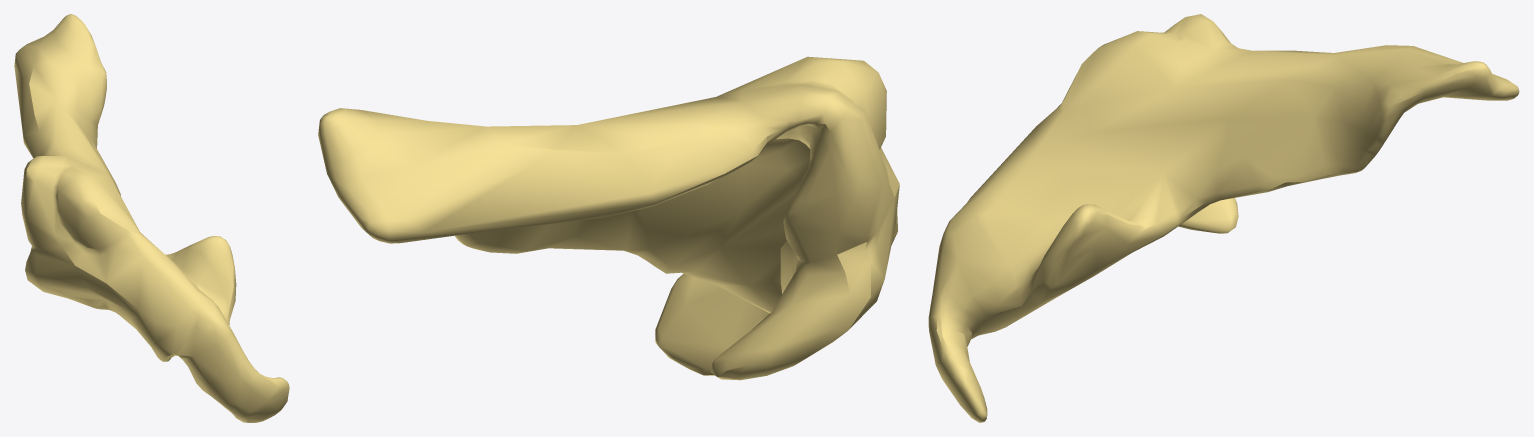
Rendered from fma72800_fj1838.glb.
3 renders of one model, left to right at view 1: azimuth 30°, elevation 25°; view 2: azimuth 150°, elevation 25°; view 3: azimuth 270°, elevation 25°, orthographic. The views are drawn at different scales.
Parts seen in each view (by area): view 1: FMA72800_FJ1838; view 2: FMA72800_FJ1838; view 3: FMA72800_FJ1838.
Part boxes in pixels (<box>): FMA72800_FJ1838: <box>14,14,289,422</box>; FMA72800_FJ1838: <box>318,56,899,380</box>; FMA72800_FJ1838: <box>928,14,1519,422</box>.
Size of the model in its own units: 0.0356 by 0.049 by 0.0739.
